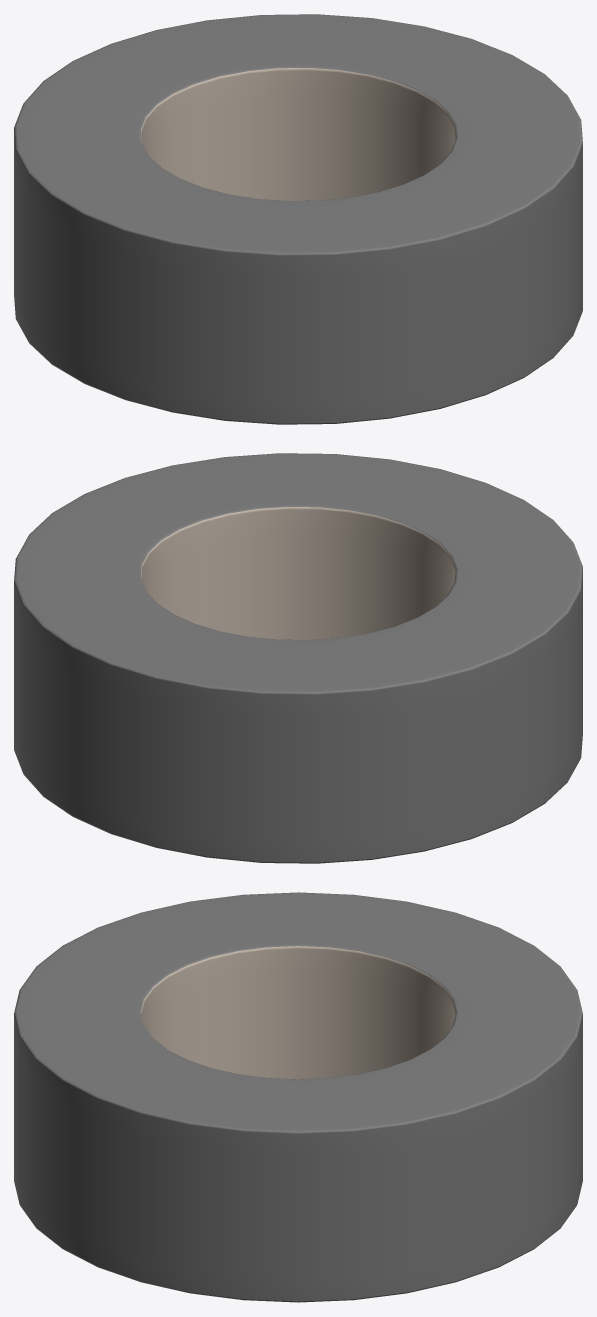
File: ductTape_shaded_v002.fbx
The picture shows the model from 3 angles, top to bottom: view 1: azimuth 30°, elevation 25°; view 2: azimuth 150°, elevation 25°; view 3: azimuth 270°, elevation 25°; orthographic projection.
Visible parts, largest first — view 1: pCylinder1; view 2: pCylinder1; view 3: pCylinder1.
Boxes of the visible parts, box(x1,y1,x2,y2) form: pCylinder1: box(14, 14, 582, 424); pCylinder1: box(14, 453, 582, 863); pCylinder1: box(14, 892, 582, 1302).
Size of the model in its own units: 9.42 by 3.13 by 9.42.
